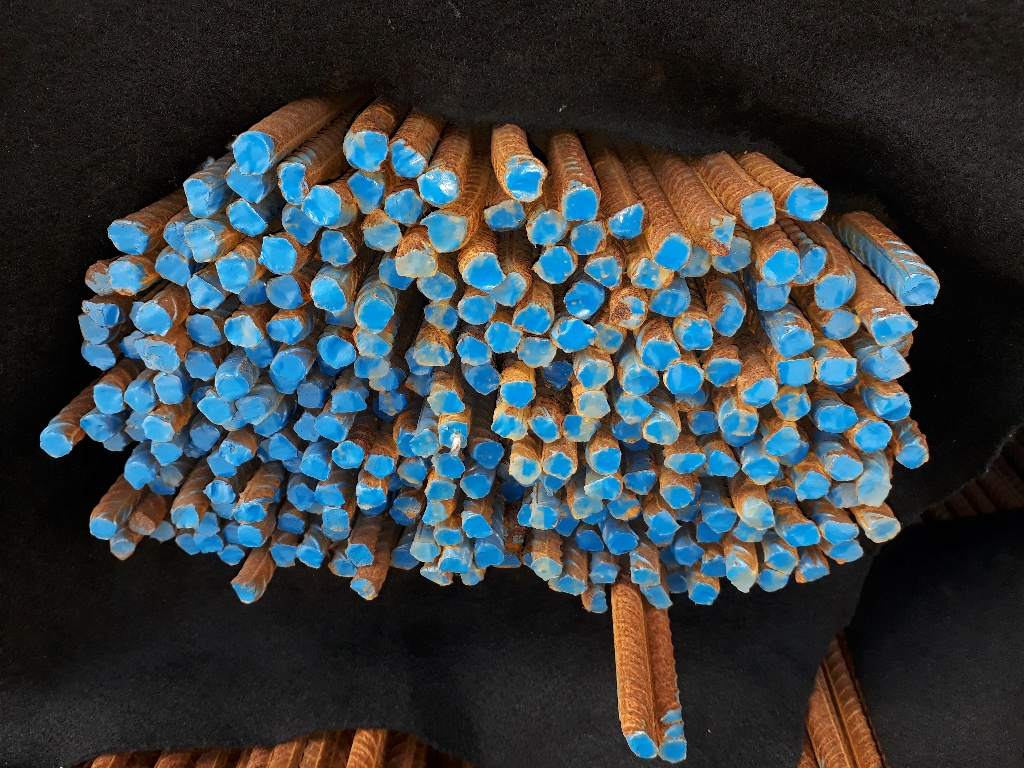dipstick: (425, 211, 464, 251), (135, 339, 179, 374), (348, 132, 387, 170), (788, 185, 828, 221), (107, 219, 147, 254), (759, 247, 796, 284), (873, 314, 915, 346), (715, 238, 752, 274), (306, 185, 339, 225), (534, 248, 574, 281), (227, 201, 267, 234), (742, 191, 777, 228), (186, 224, 220, 262), (234, 133, 267, 172), (224, 314, 263, 347), (419, 170, 456, 204), (509, 164, 543, 200), (188, 276, 224, 310), (312, 278, 346, 314), (874, 346, 910, 380), (676, 316, 713, 349), (348, 175, 380, 213), (712, 297, 742, 337), (572, 222, 607, 256), (184, 179, 216, 216), (665, 364, 704, 394), (529, 212, 564, 245), (774, 387, 809, 420), (385, 189, 421, 221), (855, 422, 891, 454), (396, 249, 434, 279), (261, 239, 294, 273), (320, 337, 356, 368), (899, 276, 937, 305), (484, 201, 523, 229), (656, 236, 690, 268), (567, 284, 601, 316), (563, 189, 598, 220), (520, 337, 555, 368), (465, 255, 501, 285), (185, 316, 221, 346), (556, 321, 593, 350), (705, 358, 742, 387), (320, 232, 353, 264), (284, 210, 318, 241), (587, 257, 622, 287), (817, 279, 852, 309), (824, 311, 860, 340), (777, 357, 814, 385), (265, 318, 306, 343), (269, 276, 302, 307), (360, 300, 394, 330), (139, 302, 168, 337), (644, 340, 680, 368), (458, 296, 495, 323), (615, 395, 652, 422), (78, 344, 116, 370), (780, 330, 814, 359), (220, 256, 247, 292), (578, 363, 614, 390), (280, 162, 303, 204), (419, 275, 456, 301), (109, 262, 140, 293), (367, 217, 398, 248), (391, 145, 423, 175), (613, 295, 645, 325), (184, 351, 216, 381), (742, 379, 775, 408), (818, 358, 856, 383), (516, 307, 551, 334), (155, 255, 187, 284), (627, 367, 659, 396), (356, 331, 393, 356), (83, 300, 120, 325), (625, 731, 658, 759), (228, 172, 262, 199), (323, 508, 350, 542), (859, 480, 893, 507), (460, 337, 491, 366), (584, 476, 623, 499), (706, 449, 738, 477), (216, 370, 249, 397), (766, 428, 799, 455), (800, 248, 824, 285), (817, 407, 854, 431), (467, 367, 501, 393), (502, 382, 536, 408), (564, 416, 599, 441), (153, 373, 182, 403), (93, 385, 123, 414), (426, 304, 457, 332), (610, 208, 642, 235), (743, 457, 775, 484), (589, 448, 622, 474), (634, 263, 668, 288), (273, 356, 298, 390), (84, 261, 108, 296), (487, 322, 517, 350), (644, 421, 679, 445), (415, 343, 453, 365), (198, 397, 230, 423), (39, 432, 71, 458), (652, 291, 688, 314), (499, 276, 524, 309), (315, 418, 348, 443), (757, 285, 790, 310), (492, 415, 526, 439), (828, 455, 862, 479), (666, 453, 703, 475), (78, 317, 107, 345), (511, 458, 541, 485), (545, 361, 572, 391), (529, 417, 560, 443), (624, 469, 655, 495), (331, 443, 363, 468), (658, 740, 690, 765), (709, 220, 733, 253), (165, 224, 189, 257), (722, 410, 756, 433), (413, 427, 439, 457), (474, 443, 505, 468), (579, 392, 610, 417), (661, 484, 692, 509), (542, 453, 577, 475), (827, 542, 862, 564), (797, 475, 829, 499), (439, 422, 467, 449), (897, 444, 927, 469), (871, 518, 901, 543), (81, 416, 112, 440), (355, 484, 386, 508), (879, 396, 910, 420), (820, 522, 859, 541), (302, 456, 328, 484), (431, 391, 464, 413), (330, 392, 366, 412), (237, 501, 268, 524), (433, 454, 464, 477), (787, 524, 818, 547), (607, 532, 639, 554), (748, 503, 774, 530), (355, 357, 390, 377), (398, 459, 427, 483), (609, 496, 639, 519), (757, 569, 788, 591), (146, 416, 173, 441), (288, 484, 313, 511), (465, 513, 492, 538), (270, 435, 298, 459), (365, 455, 393, 479), (641, 586, 673, 607), (728, 567, 756, 591), (190, 425, 219, 448), (238, 399, 267, 422), (690, 412, 719, 435), (315, 484, 345, 506), (595, 326, 622, 350), (294, 415, 317, 443), (530, 507, 558, 530), (652, 510, 680, 533), (765, 553, 797, 573), (222, 441, 251, 463), (576, 531, 605, 553), (689, 584, 719, 605), (683, 255, 709, 279), (124, 463, 151, 486), (171, 505, 198, 528), (612, 423, 643, 443), (208, 456, 236, 478), (206, 482, 234, 504), (461, 476, 489, 498), (705, 510, 734, 531), (831, 483, 856, 507), (126, 412, 144, 445), (278, 513, 305, 535), (423, 503, 450, 525), (797, 565, 830, 583), (768, 487, 795, 509), (378, 258, 397, 289), (630, 567, 661, 586), (152, 442, 180, 463), (533, 558, 561, 579), (89, 517, 114, 540), (124, 389, 150, 411), (476, 545, 503, 566), (591, 562, 618, 583), (677, 544, 704, 565), (130, 512, 154, 535), (231, 582, 255, 605), (272, 545, 296, 568), (426, 482, 455, 501), (242, 286, 267, 308), (297, 546, 322, 568), (245, 347, 272, 367), (393, 496, 420, 516), (434, 528, 463, 546), (412, 543, 438, 563), (120, 331, 139, 358), (347, 546, 374, 565), (572, 499, 602, 516), (381, 393, 405, 414), (220, 545, 244, 566), (298, 385, 319, 408), (239, 527, 262, 548), (110, 540, 134, 560), (696, 522, 720, 542), (665, 573, 687, 594), (254, 420, 281, 437), (328, 559, 355, 576), (351, 580, 375, 599), (561, 577, 586, 595), (701, 558, 726, 576), (407, 376, 430, 395), (367, 377, 398, 391), (201, 512, 218, 537), (196, 535, 221, 552), (176, 532, 196, 553), (424, 571, 452, 586), (557, 518, 578, 538), (542, 477, 568, 493), (781, 452, 807, 468), (162, 467, 182, 487), (221, 522, 238, 545), (735, 528, 767, 540), (212, 503, 235, 519), (441, 559, 467, 573), (591, 591, 607, 613), (398, 433, 412, 458), (722, 436, 753, 447), (461, 570, 484, 584), (648, 534, 674, 546), (282, 459, 302, 474), (518, 503, 530, 528), (104, 437, 123, 452), (392, 512, 412, 526), (586, 514, 611, 525), (505, 555, 520, 568), (163, 527, 174, 540)
